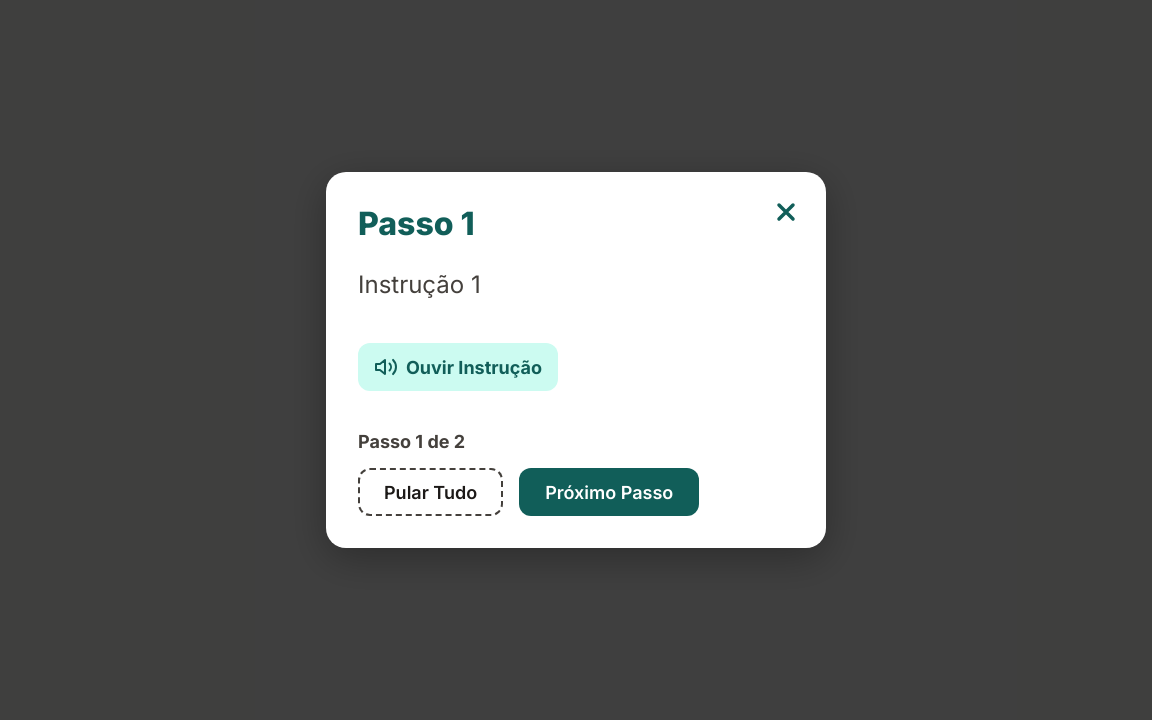
Test: OnboardingTour › deve renderizar e navegar para o próximo passo no modo "simple"
Expected: the heading "Passo 1" is shown, [358,204,475,243]
Clica em "Próximo Passo"
What coordinates should you click on to do the following:
click the button "Próximo Passo"
I would click on:
 (609, 492)
Its box is [519,468,699,516].
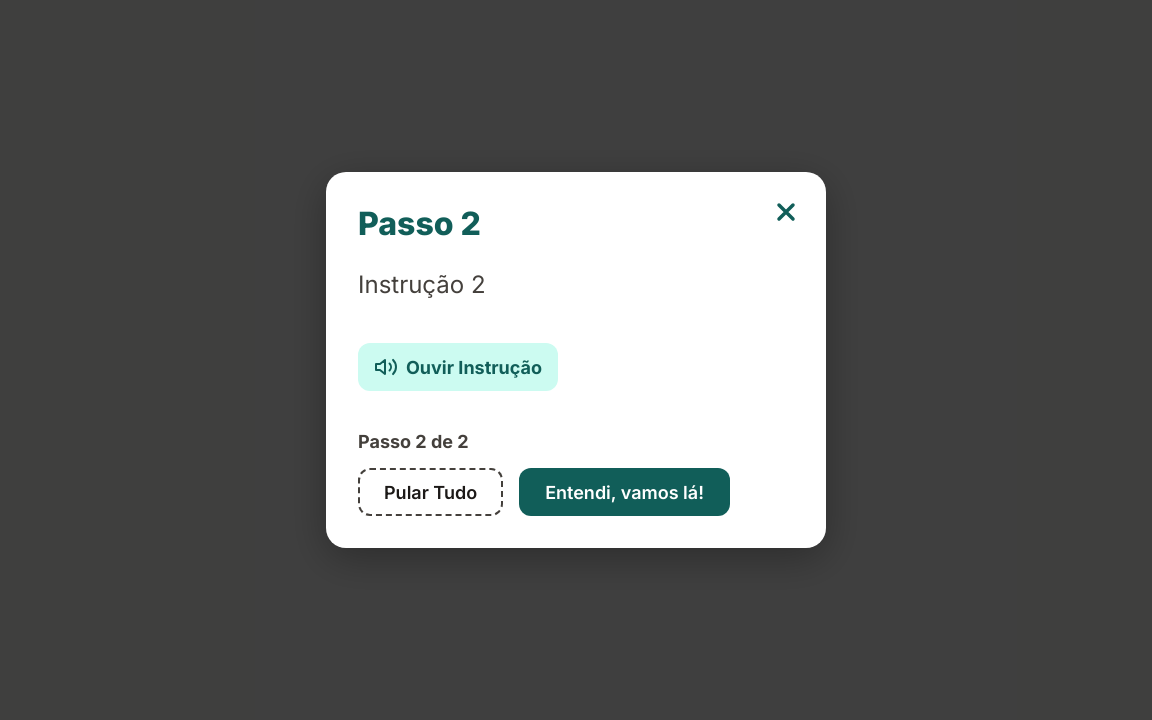
Expected: the heading "Passo 2" is shown, [358,204,481,243]
Expected: the button "Entendi, vamos lá!" is shown, [519,468,730,516]
